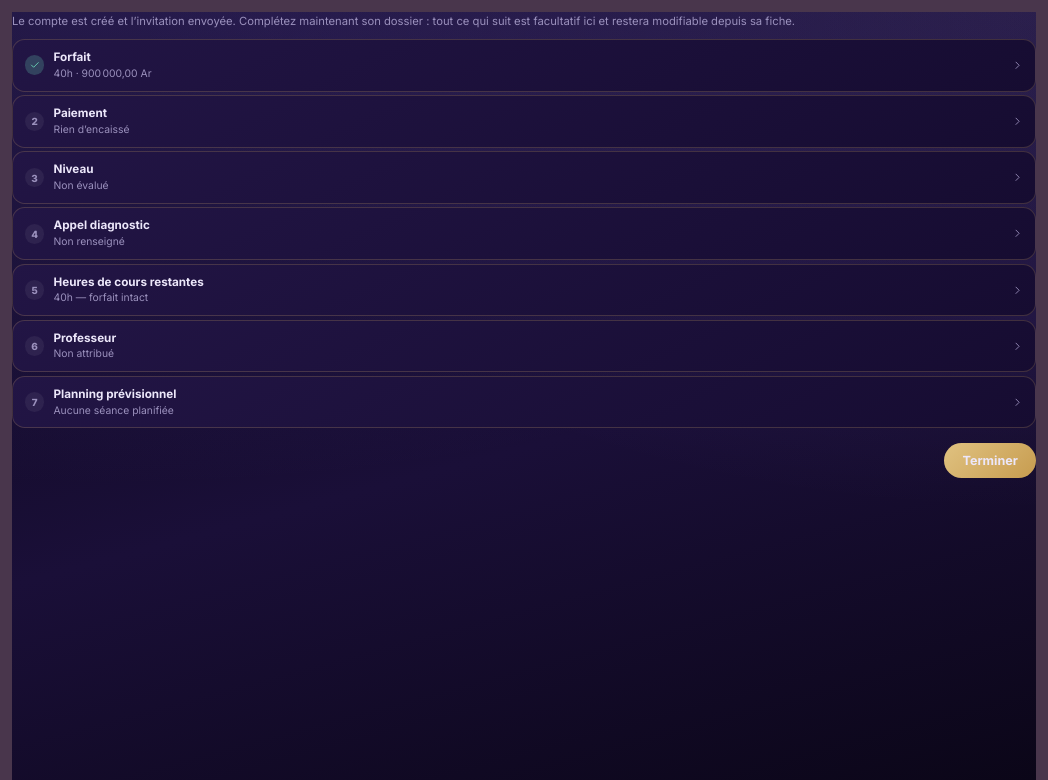
Test: CompleterDossierEtudiant › débite la différence, pas le nombre saisi, pour les heures déjà suivies
Later steps or results of the test are not shown.
Click the button "5 Heures de cours restantes 40h — forfait intact". click: (129, 282)
box: [13,265,1035,315]
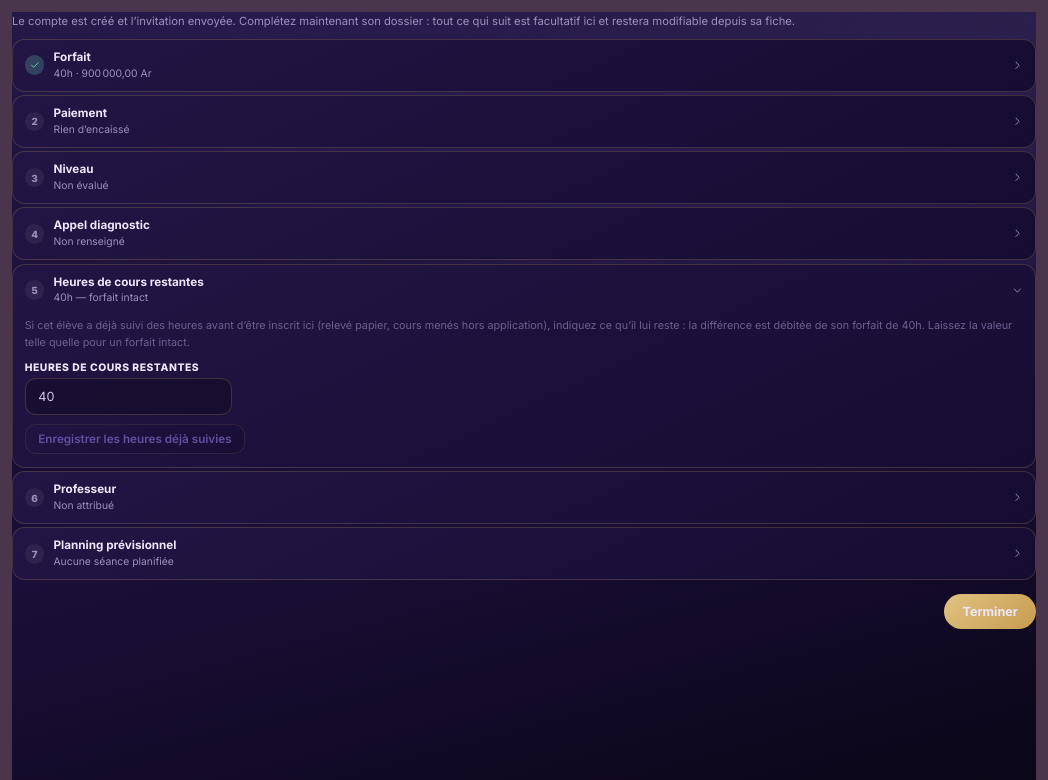
Replace the text in the number field labelled "Heures de cours restantes" with "26". click: (128, 396)
box: [25,378,232,415]
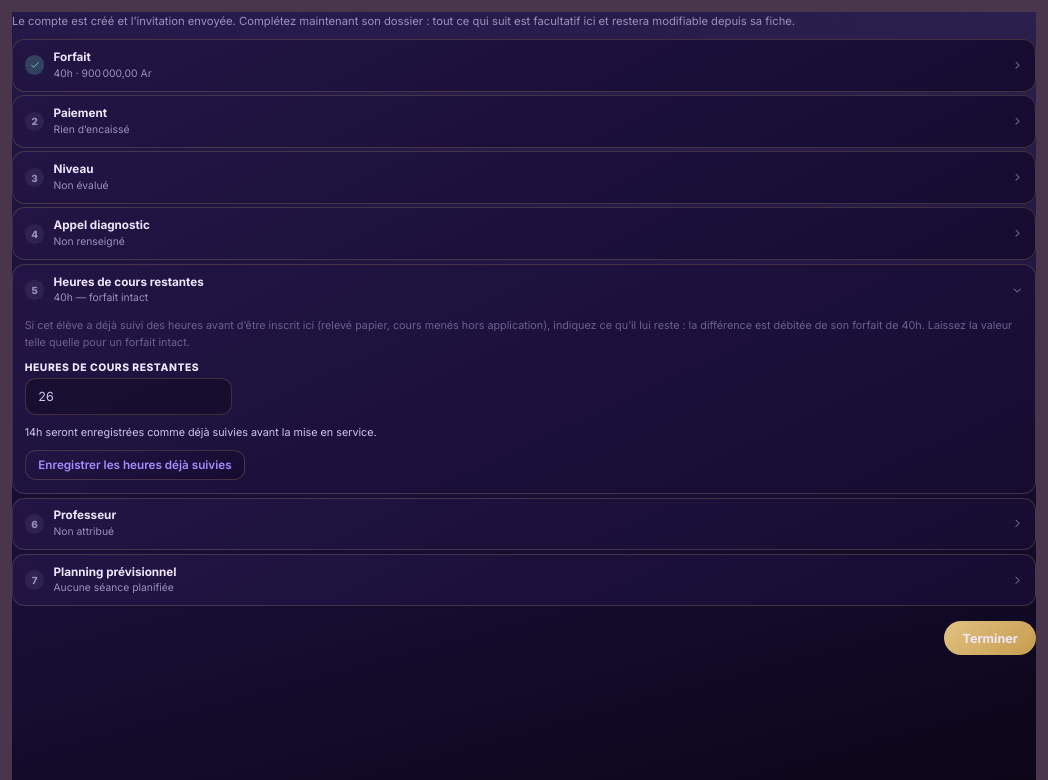
Expected: the text "14h seront enregistrées comme déjà suivies" is shown, [25,426,377,439]
